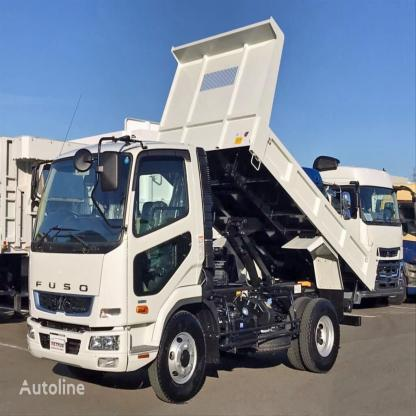truck: (22, 17, 384, 401)
